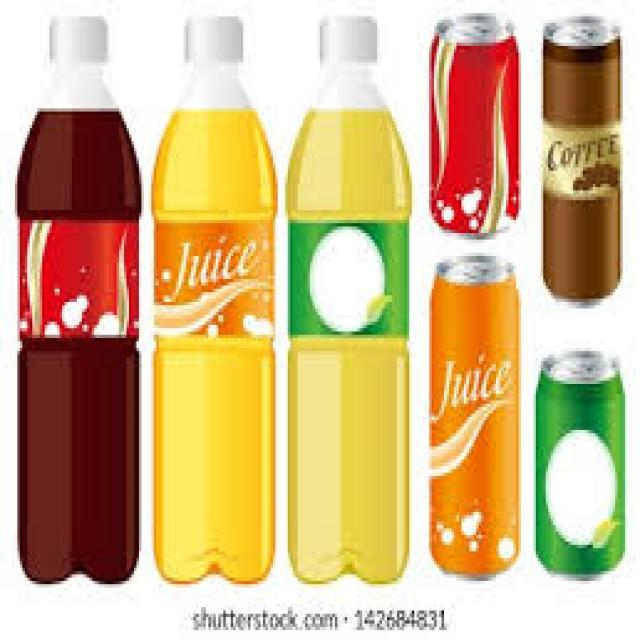Cans: (422, 253, 528, 584), (531, 10, 640, 315), (531, 335, 637, 587), (419, 3, 526, 236)
